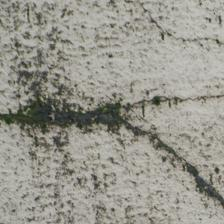Crack: (121, 119, 224, 205), (2, 90, 220, 130), (142, 7, 223, 50)
